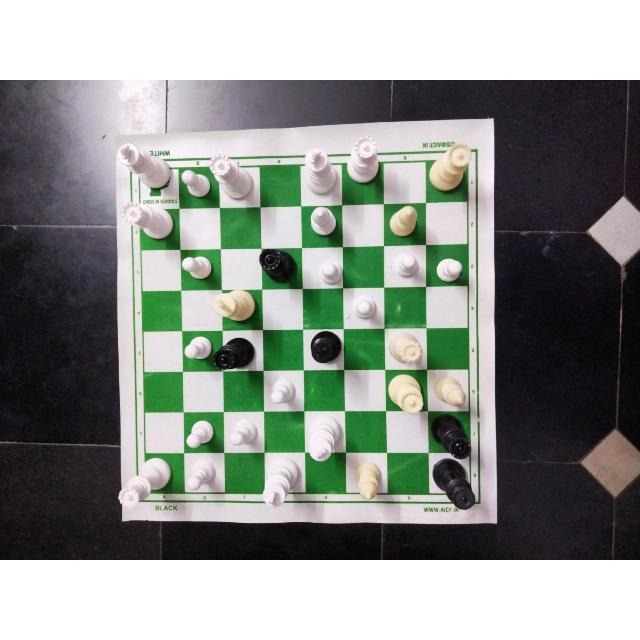black-king: (305, 332, 344, 366)
black-queen: (427, 456, 479, 510), (430, 412, 474, 462), (211, 335, 262, 371), (255, 246, 302, 285)
white-bishop: (430, 372, 474, 414), (349, 462, 386, 506), (384, 203, 423, 241), (304, 203, 340, 239)
white-king: (117, 141, 173, 193), (261, 453, 304, 508), (304, 414, 344, 462), (210, 289, 258, 328), (302, 148, 338, 197)
white-pawn: (226, 416, 267, 453), (182, 416, 221, 452), (178, 249, 217, 282), (182, 458, 216, 492), (177, 167, 212, 200), (431, 255, 468, 284), (181, 332, 212, 366), (266, 374, 297, 406), (317, 257, 345, 289), (348, 295, 380, 323), (394, 251, 420, 281)
white-queen: (117, 457, 177, 509), (119, 198, 179, 242), (427, 140, 474, 194), (207, 153, 257, 202), (344, 135, 383, 189), (387, 371, 427, 418), (386, 327, 428, 367)
